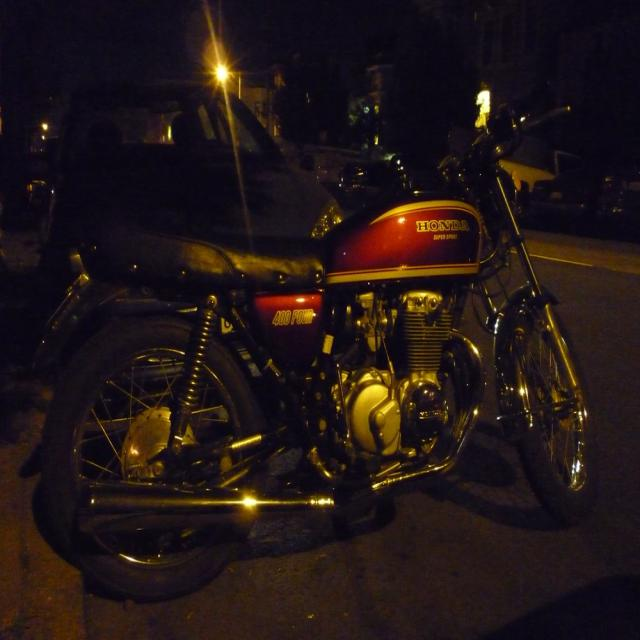Motorbike: (30, 96, 595, 602)
